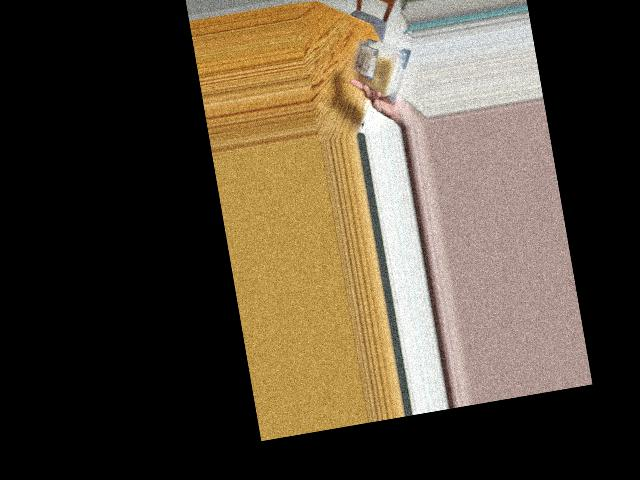cheese: (346, 29, 410, 104)
